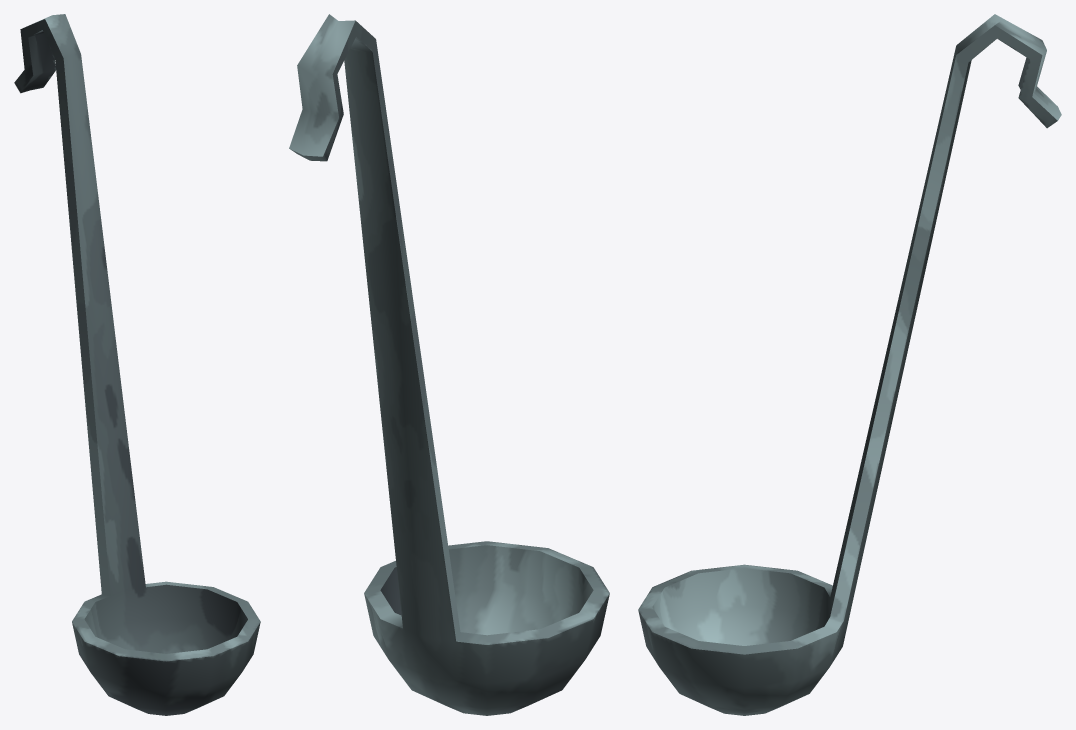
The model's file is Kepce.fbx.
The picture shows the model from 3 angles, left to right: view 1: azimuth 30°, elevation 25°; view 2: azimuth 150°, elevation 25°; view 3: azimuth 270°, elevation 25°; orthographic projection. The views are drawn at different scales.
Visible parts, largest first — view 1: Kepce; view 2: Kepce; view 3: Kepce.
Boxes of the visible parts, x1,y1,x2,y2 form: Kepce: [14, 14, 260, 715]; Kepce: [289, 14, 609, 715]; Kepce: [638, 14, 1061, 715].
Bounding box in the file's own units: 45.3 × 161 × 90.17.
Materials: 1 (1 with a texture image).
